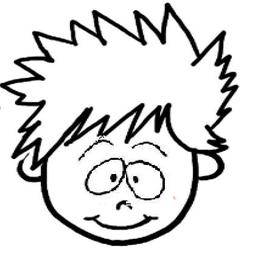ear: (191, 150, 229, 191), (19, 151, 46, 188)
eye: (124, 159, 172, 203), (80, 156, 125, 197), (112, 198, 136, 211)
eyebrow: (78, 135, 115, 161), (129, 140, 170, 157)
mouth: (83, 212, 161, 233)
